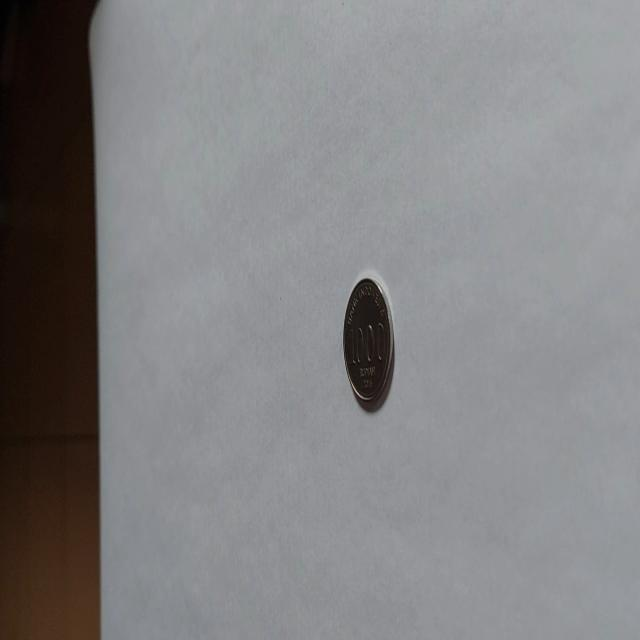seribu rupiah koin: (342, 274, 394, 412)
